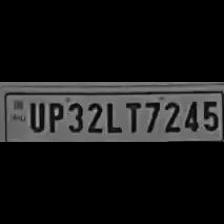2: (160, 98, 180, 134), (84, 100, 104, 134)
3: (64, 100, 84, 134)
4: (180, 98, 198, 132)
5: (200, 97, 218, 132)
7: (141, 98, 159, 134)
L: (102, 100, 122, 134)
P: (44, 100, 64, 134)
T: (122, 100, 142, 134)
U: (26, 99, 44, 133)
